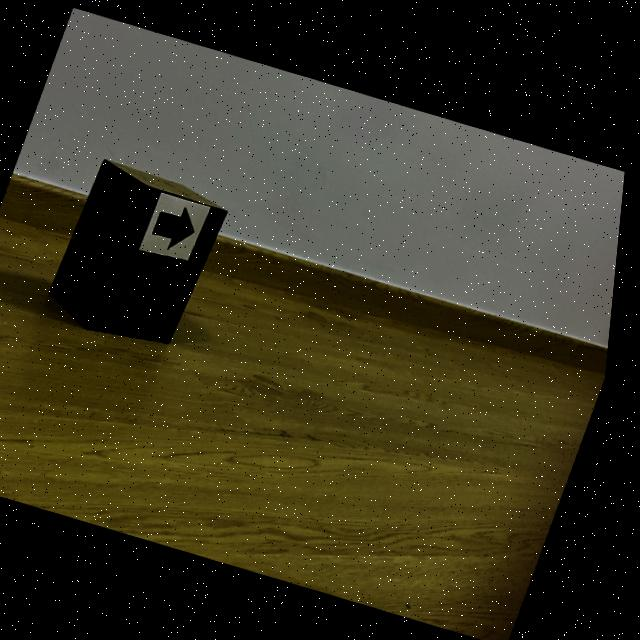RIGHT: (156, 207, 198, 247)
